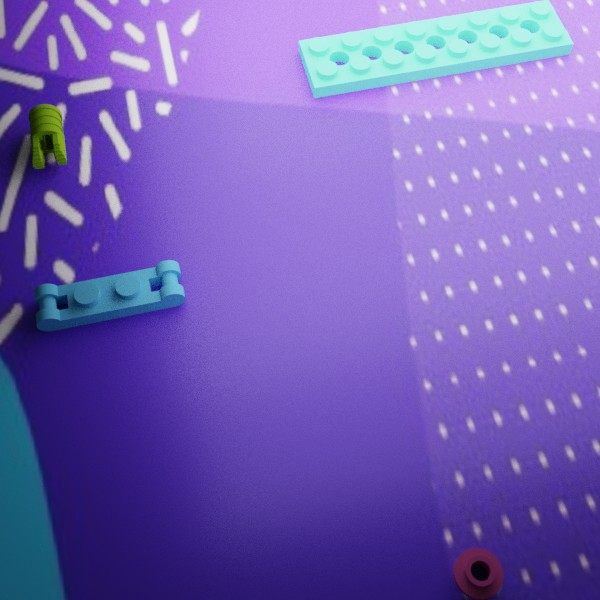lego: (298, 0, 573, 98), (34, 260, 185, 331), (452, 547, 503, 599), (28, 103, 67, 169)
